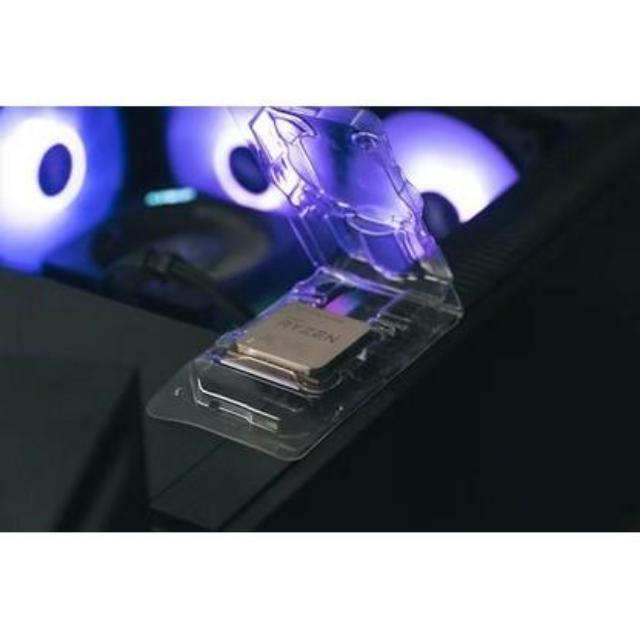CPU: (218, 295, 382, 387)
